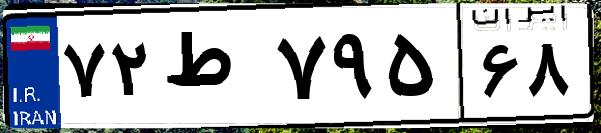2: (110, 28, 158, 98)
5: (385, 28, 445, 110)
6: (475, 38, 525, 113)
7: (270, 28, 330, 110), (57, 26, 110, 100)
8: (525, 38, 570, 115)
9: (330, 28, 385, 110)
ط: (158, 20, 270, 120)
